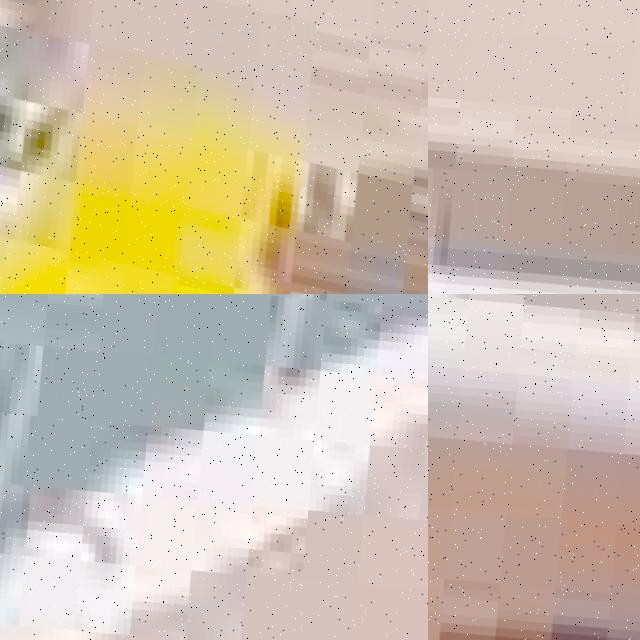drone: (0, 0, 428, 294)
